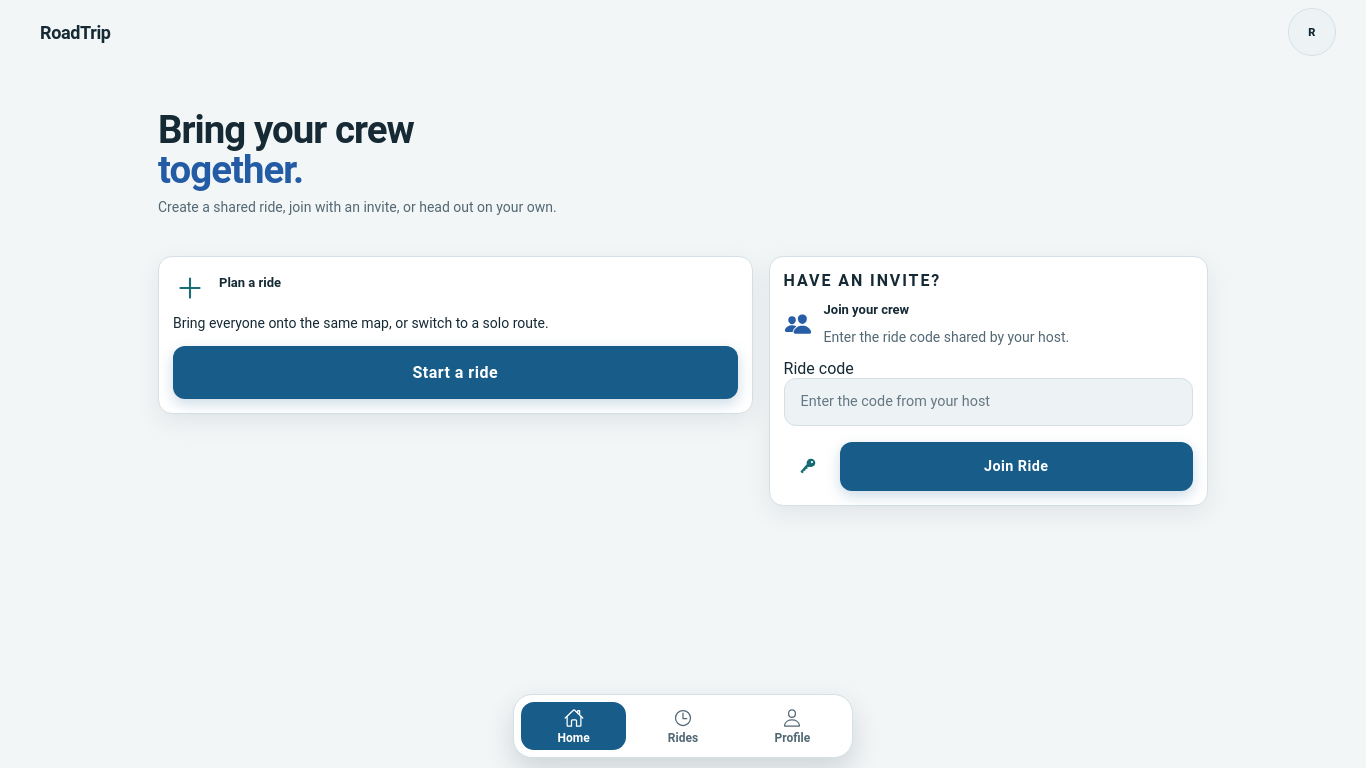
Test case: Home actions and ride setup controls › validates join, shows loading, reports API errors, and recovers to the group lobby
Click the button "Join Ride" at (1017, 467), box top-left (840, 442), bottom-right (1194, 491)
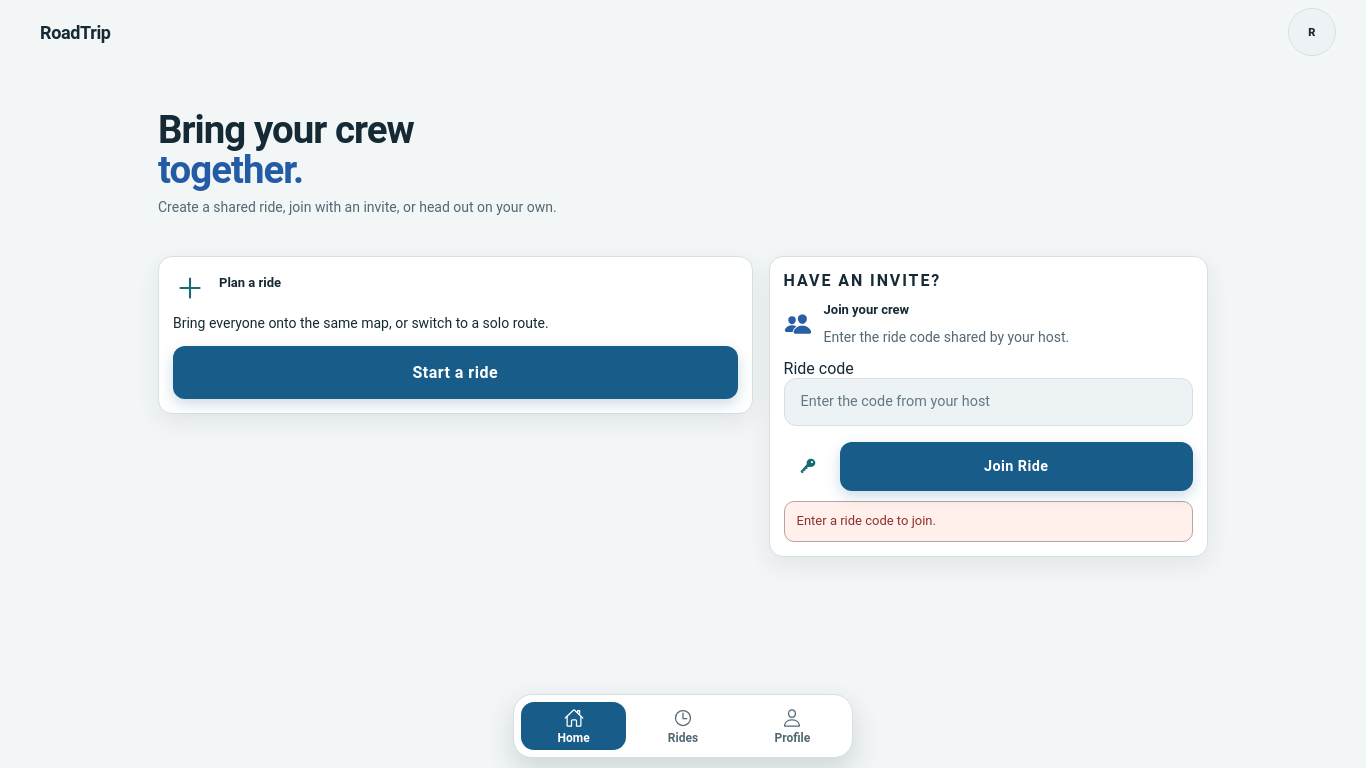
Now the text "Enter a ride code to join." is shown, box top-left (784, 501), bottom-right (1193, 542)
Type "CREW42" into the field with id "ride-code" at (989, 402), box top-left (784, 378), bottom-right (1194, 426)
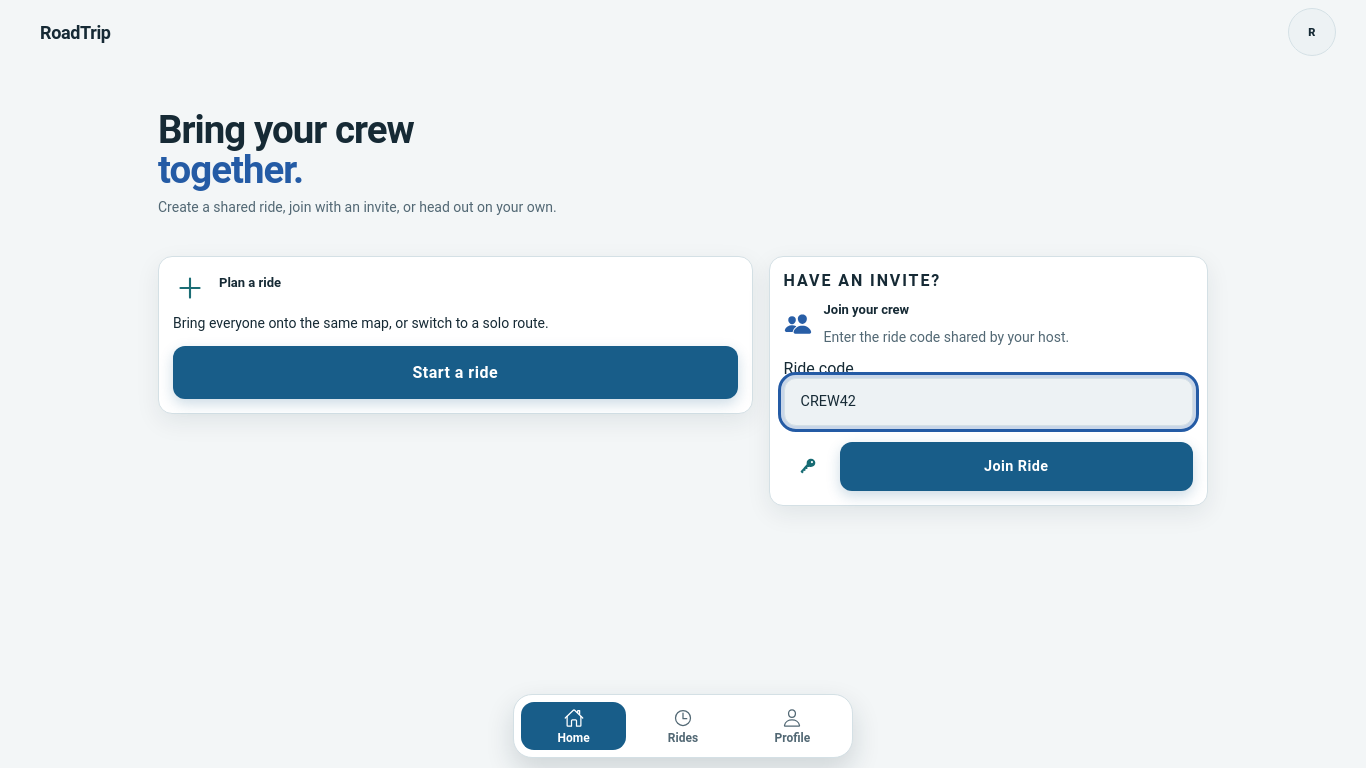
Click the button "Join Ride" at (1017, 467), box top-left (840, 442), bottom-right (1194, 491)
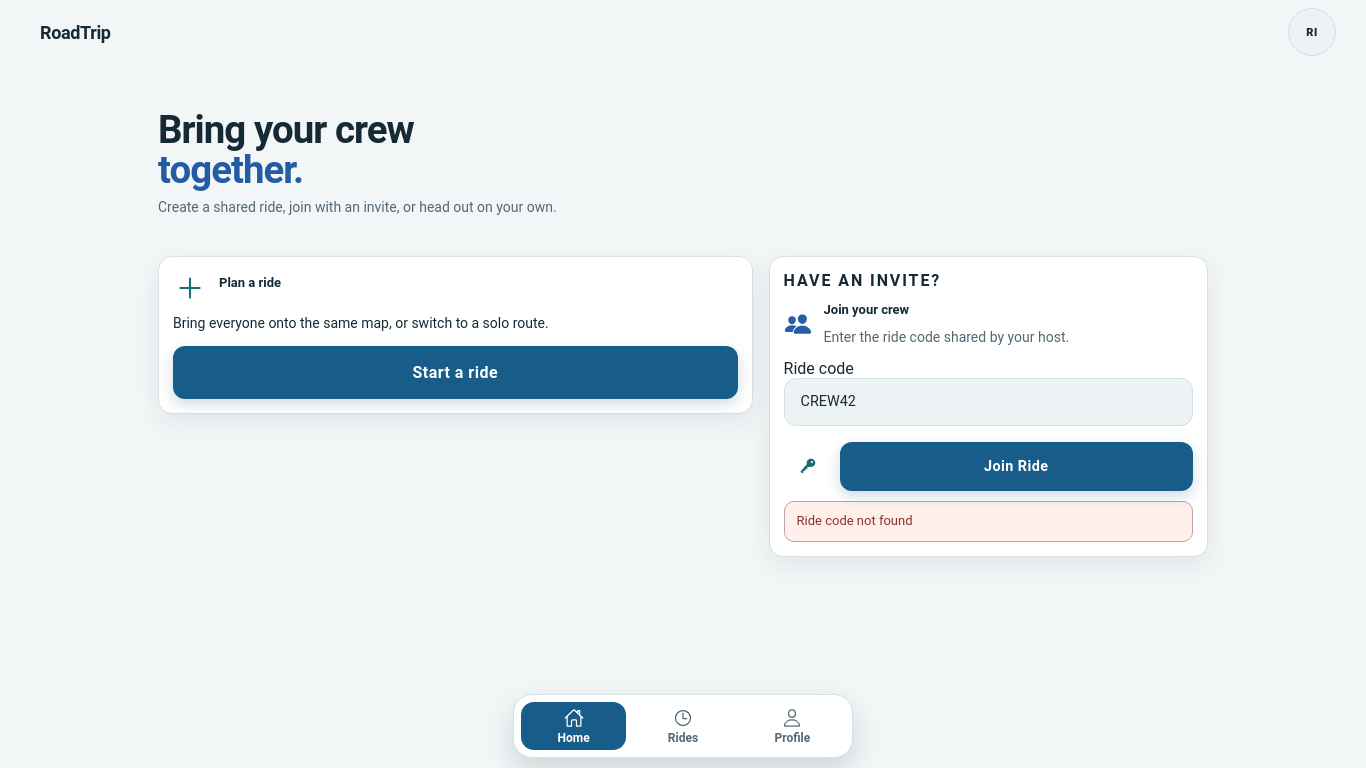
Now the text "Ride code not found" is shown, box top-left (784, 501), bottom-right (1193, 542)
Click the button "Join Ride" at (1017, 467), box top-left (840, 442), bottom-right (1194, 491)
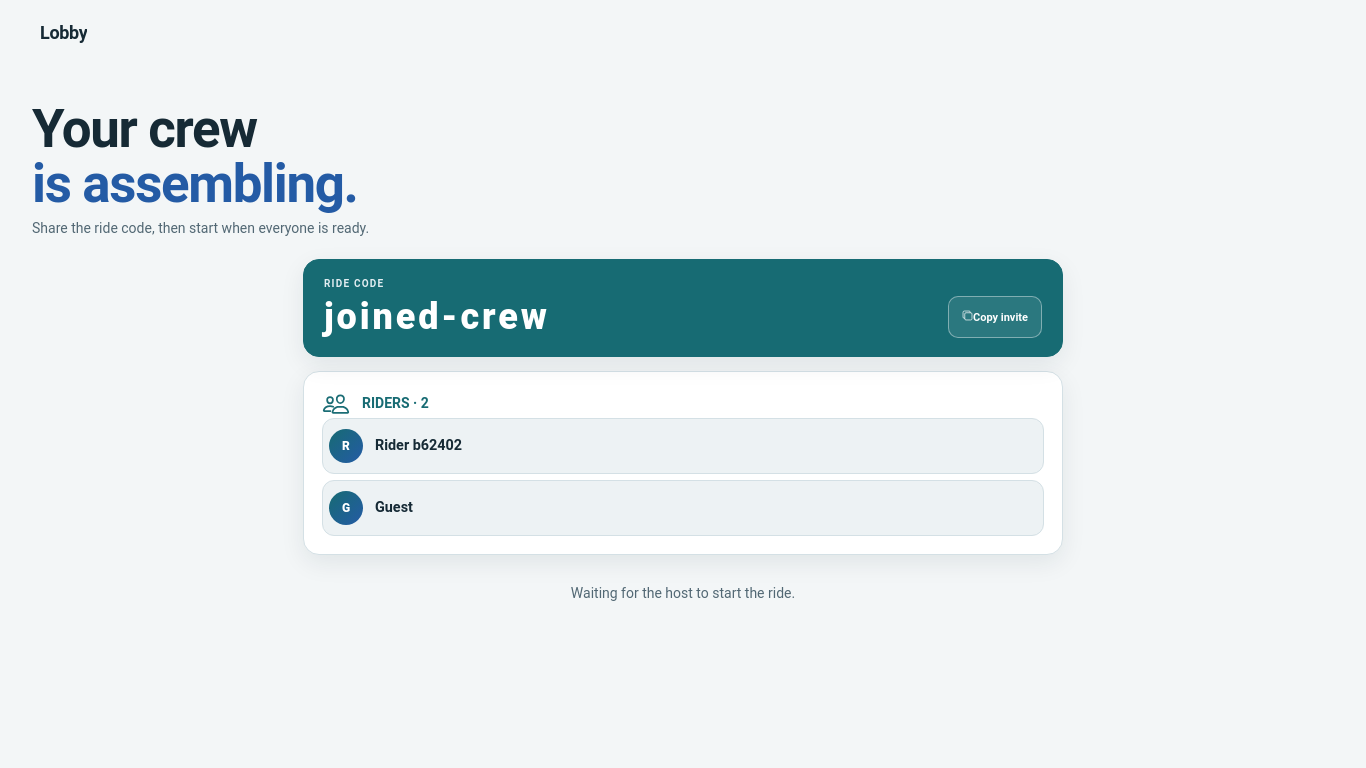
Now the text "joined-crew" is shown, box top-left (324, 296), bottom-right (550, 338)
